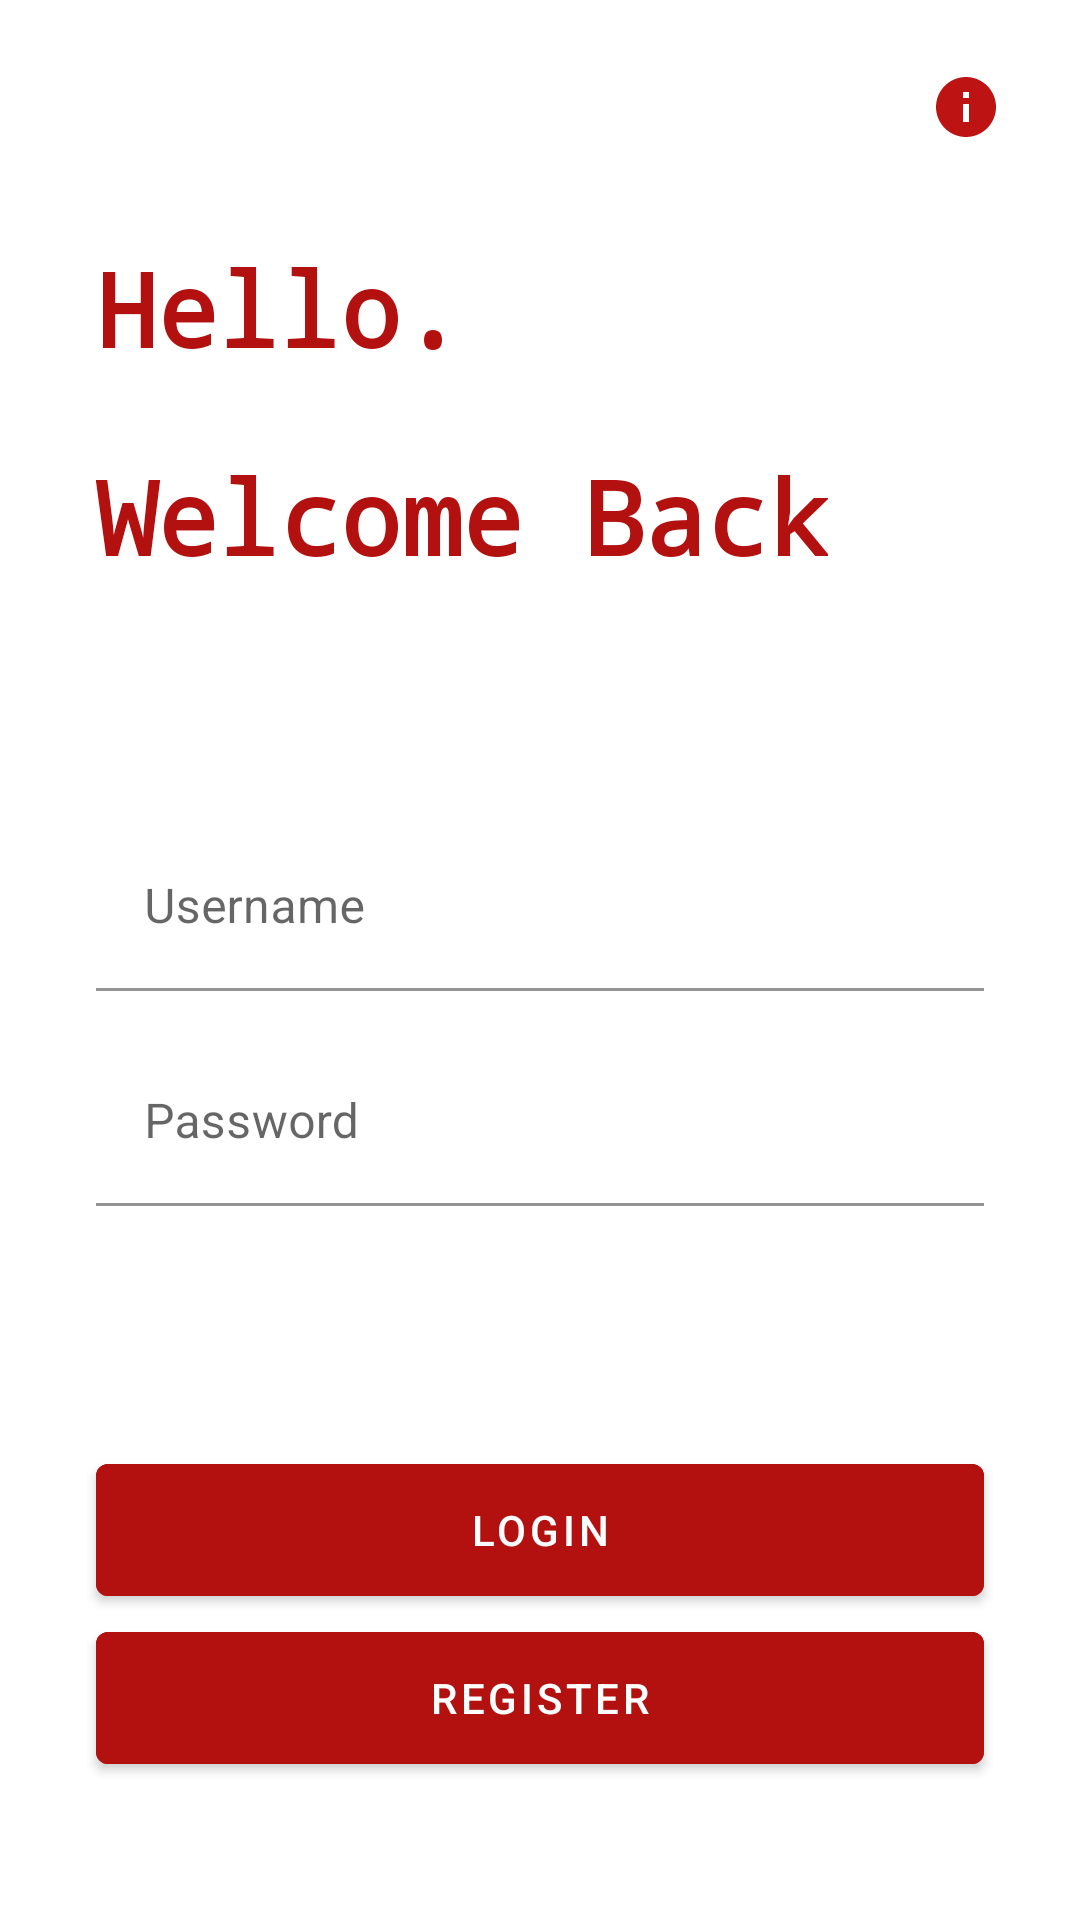

Icon bounding boxes for this 1080w x 1920h phone screenshot, format (left=x1, top=y1, right=x2, bottom=y2):
Licences Button: (left=936, top=77, right=996, bottom=137)
